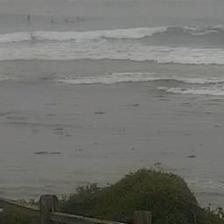surfer: (74, 16, 85, 22), (50, 19, 59, 25), (65, 18, 74, 23), (26, 14, 31, 21)
